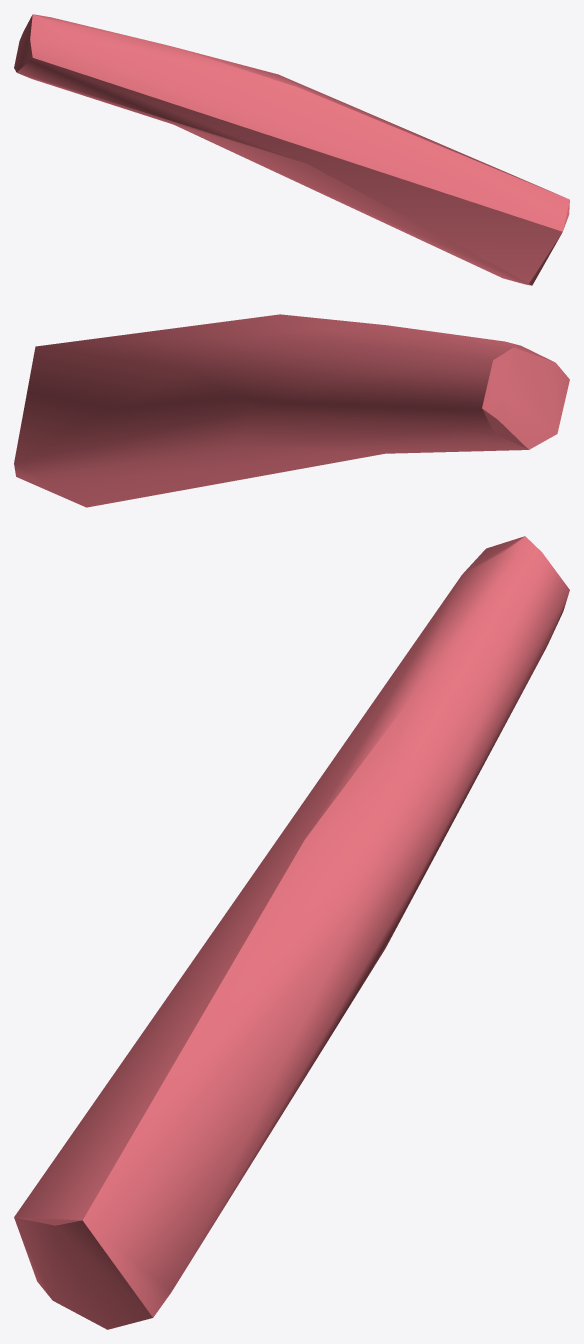
File: fma68690_fj2984.glb
The picture shows the model from 3 angles, top to bottom: view 1: azimuth 30°, elevation 25°; view 2: azimuth 150°, elevation 25°; view 3: azimuth 270°, elevation 25°; orthographic projection. The views are drawn at different scales.
Parts seen in each view (by area): view 1: FMA68690_FJ2984; view 2: FMA68690_FJ2984; view 3: FMA68690_FJ2984.
Boxes of the visible parts, x1=… form: FMA68690_FJ2984: x1=14, y1=14, x2=569, y2=285; FMA68690_FJ2984: x1=14, y1=314, x2=569, y2=507; FMA68690_FJ2984: x1=14, y1=536, x2=569, y2=1329.
Size of the model in its own units: 0.0156 by 0.00945 by 0.00999.
